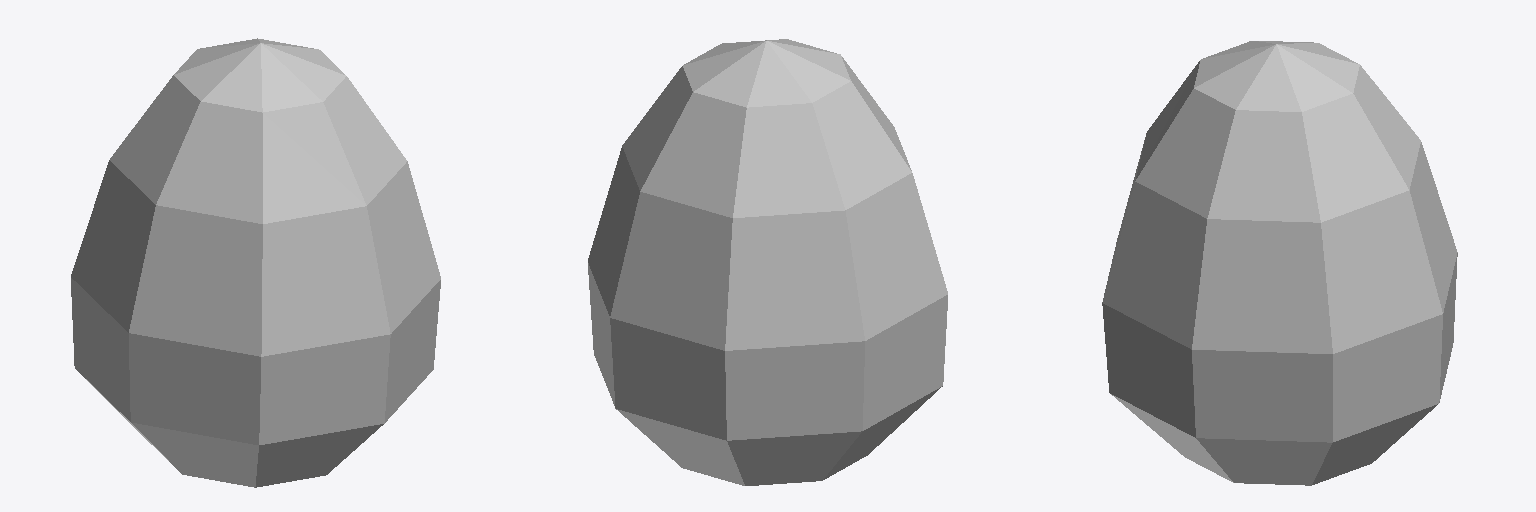
The model's file is huevo1.obj.
The picture shows the model from 3 angles: view 1: azimuth 30°, elevation 25°; view 2: azimuth 150°, elevation 25°; view 3: azimuth 270°, elevation 25°; orthographic projection.
Parts seen in each view (by area): view 1: Object_0.006; view 2: Object_0.006; view 3: Object_0.006.
Part boxes in pixels (x1,y1,x2,y2): Object_0.006: (71,38,440,487); Object_0.006: (588,39,947,485); Object_0.006: (1102,41,1457,485).
Bounding box in the file's own units: 0.3904 × 0.5173 × 0.3904.